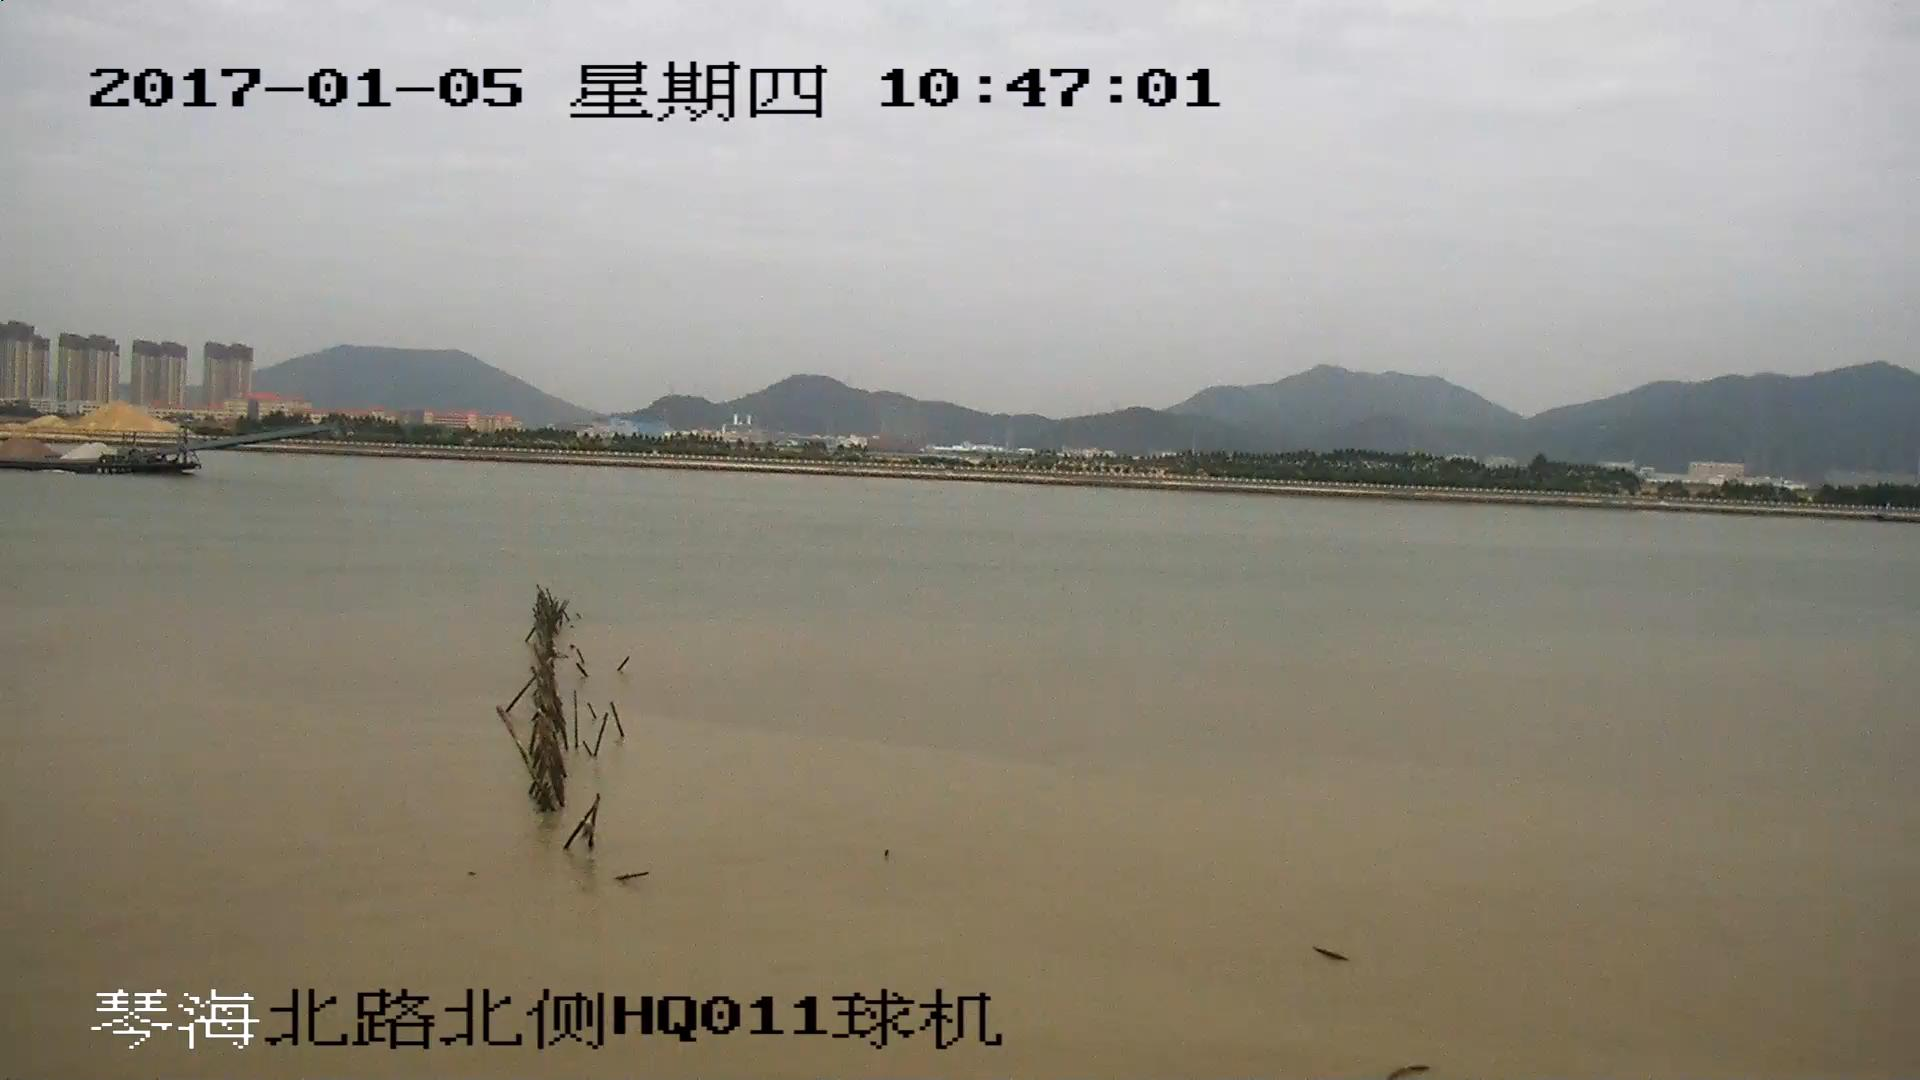ore carrier: (1, 420, 334, 472)
